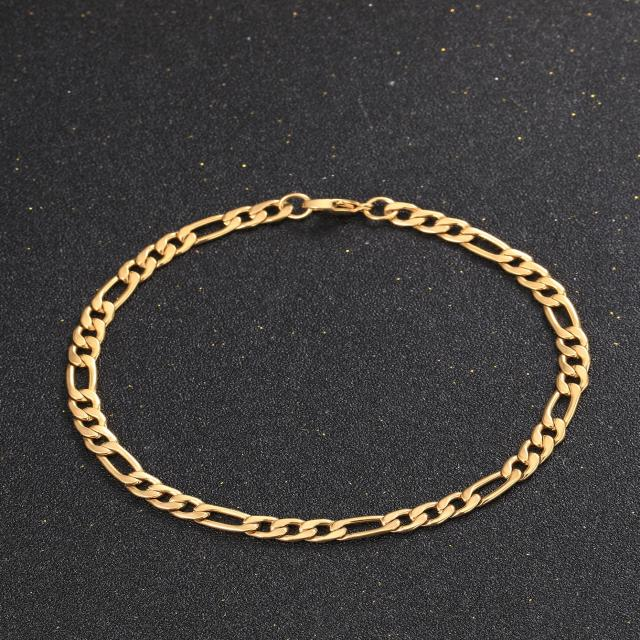bracelet: (10, 154, 640, 574)
